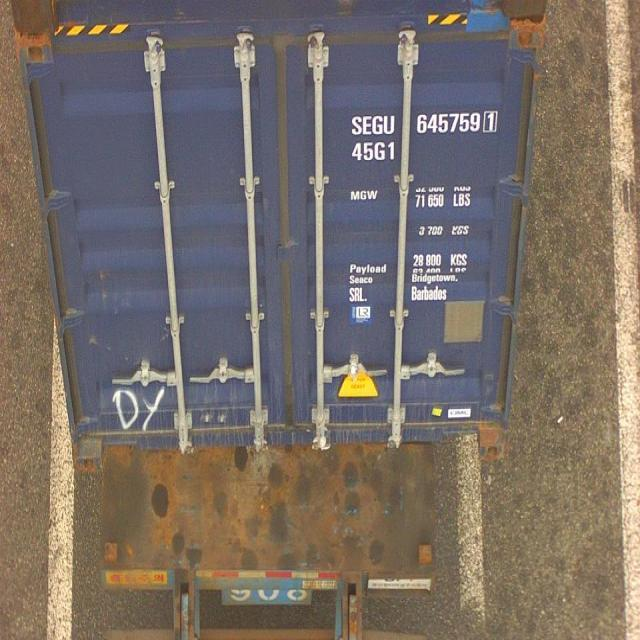ISO: (352, 140, 398, 164)
container_number: (348, 112, 498, 136)
